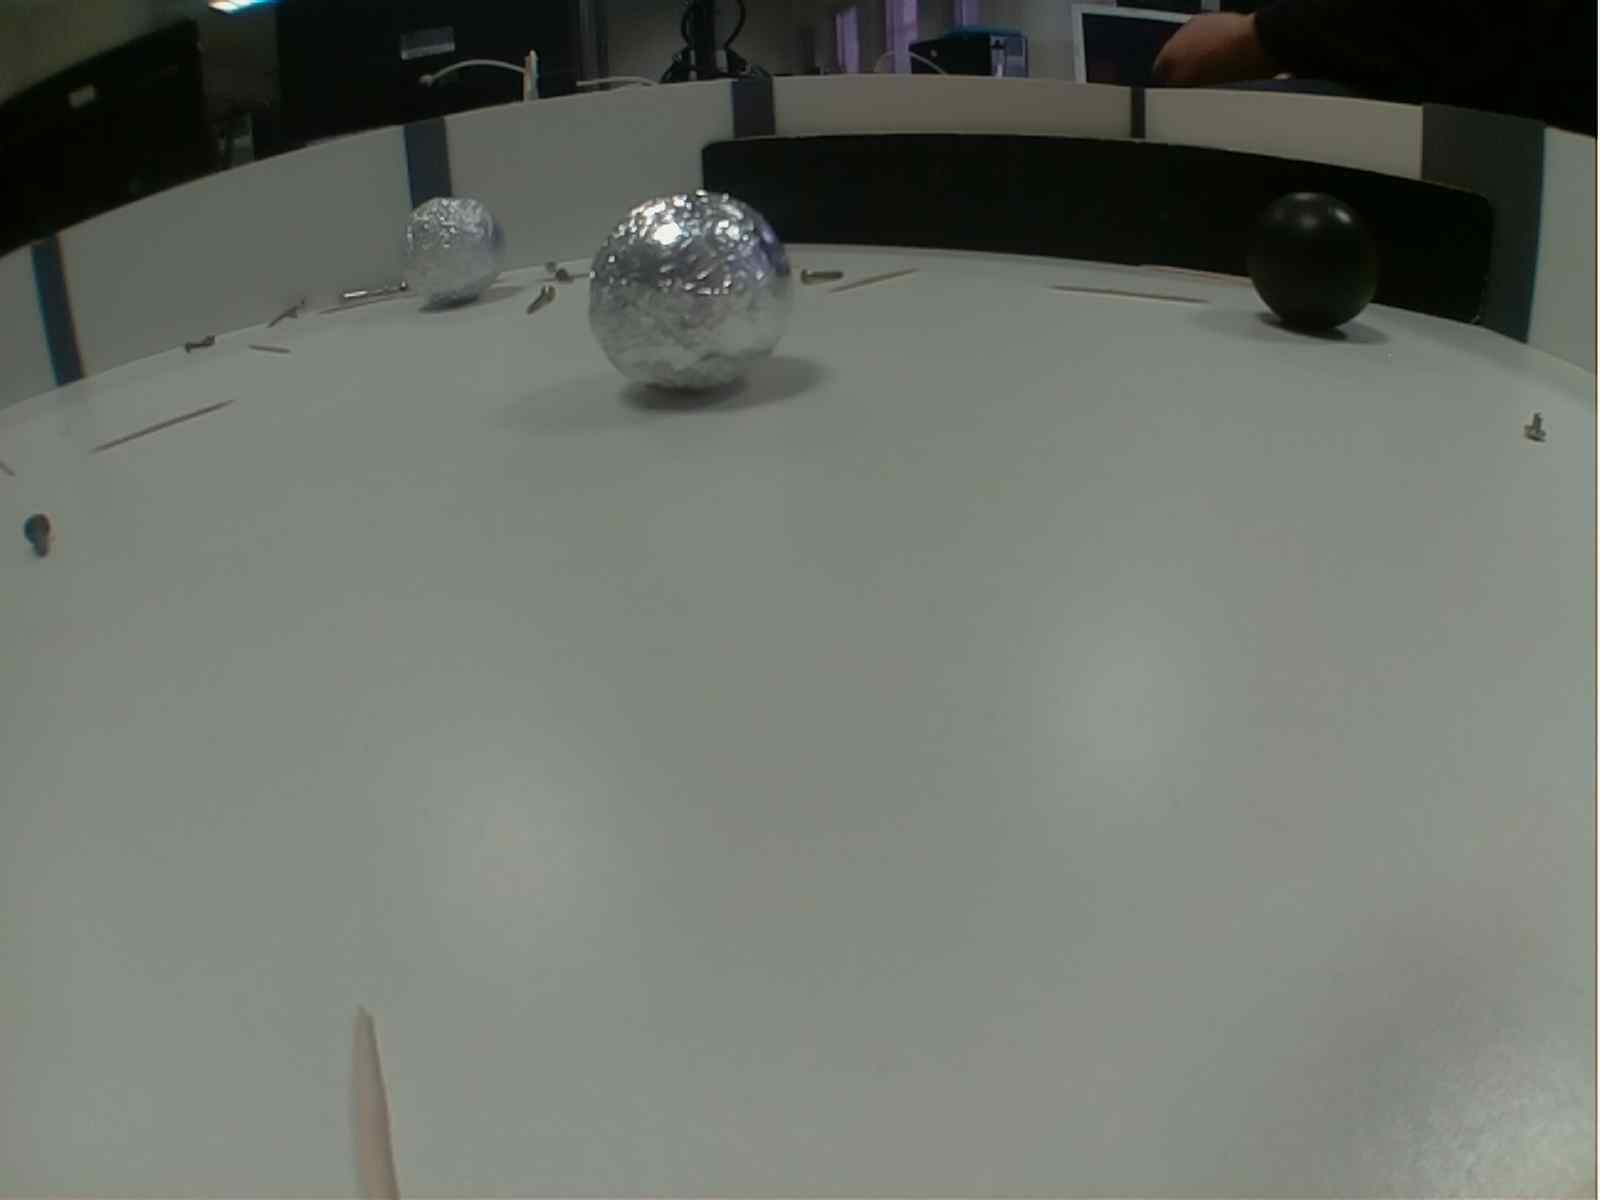bianca: (583, 188, 800, 405), (401, 195, 511, 308)
nera: (1243, 183, 1388, 328)
